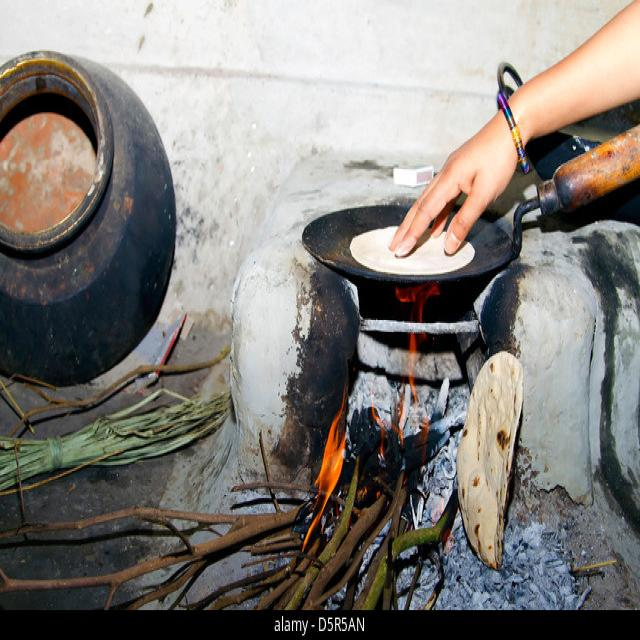fire: (397, 282, 439, 455), (302, 387, 346, 552)
